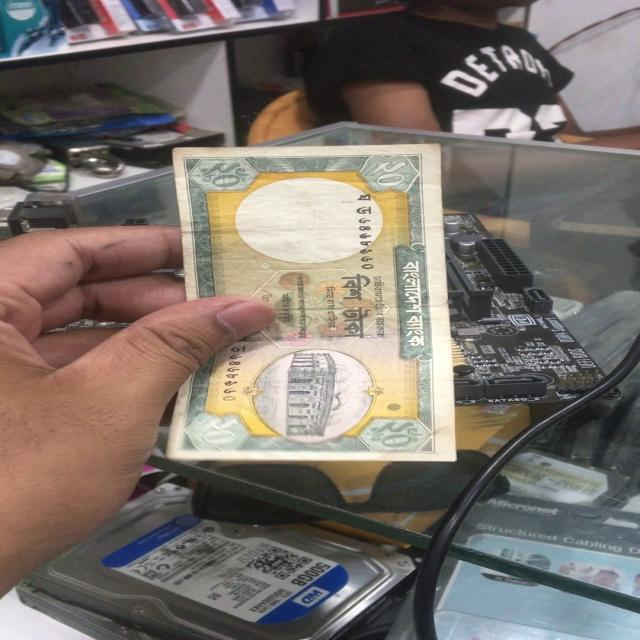Taka: (173, 143, 458, 464)
